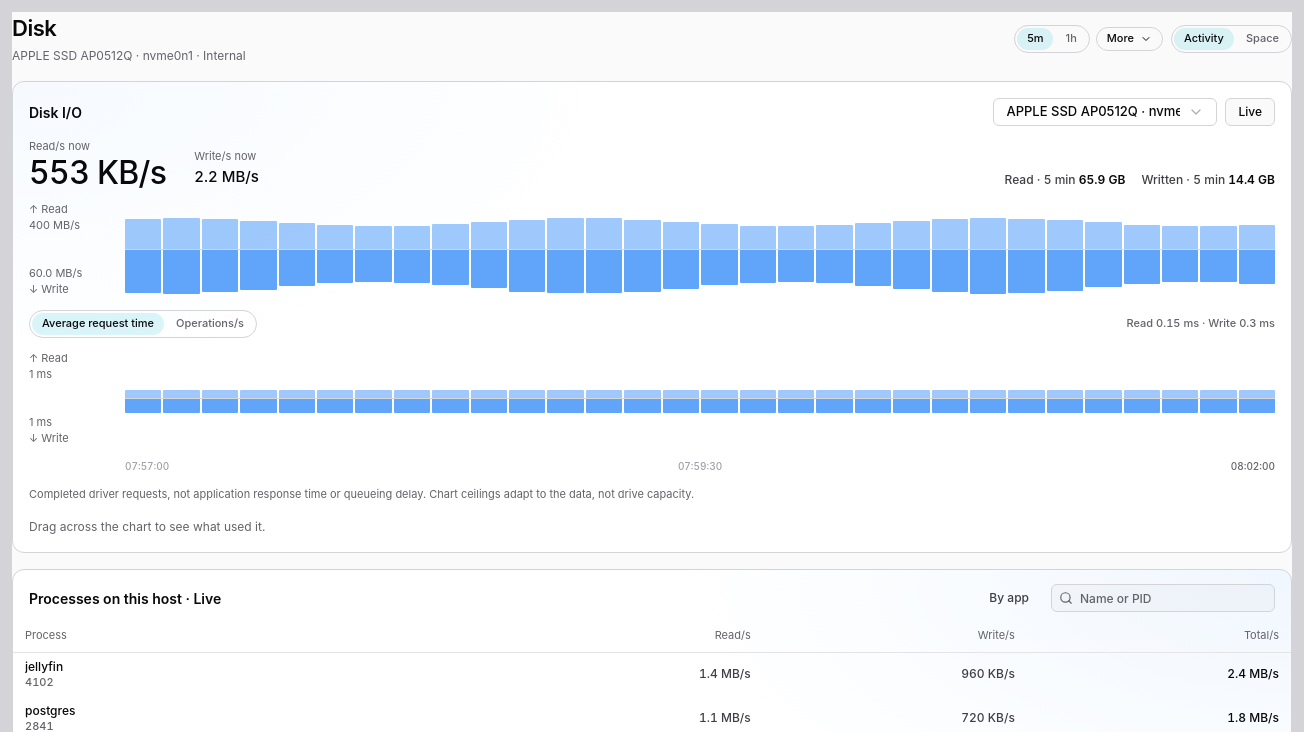
Test case: a Linux host (D-116) › lists a remote Linux host's block devices from its capabilities
Click the dropdown named "Disk device". click: (1106, 112)
box: [994,98,1218,126]
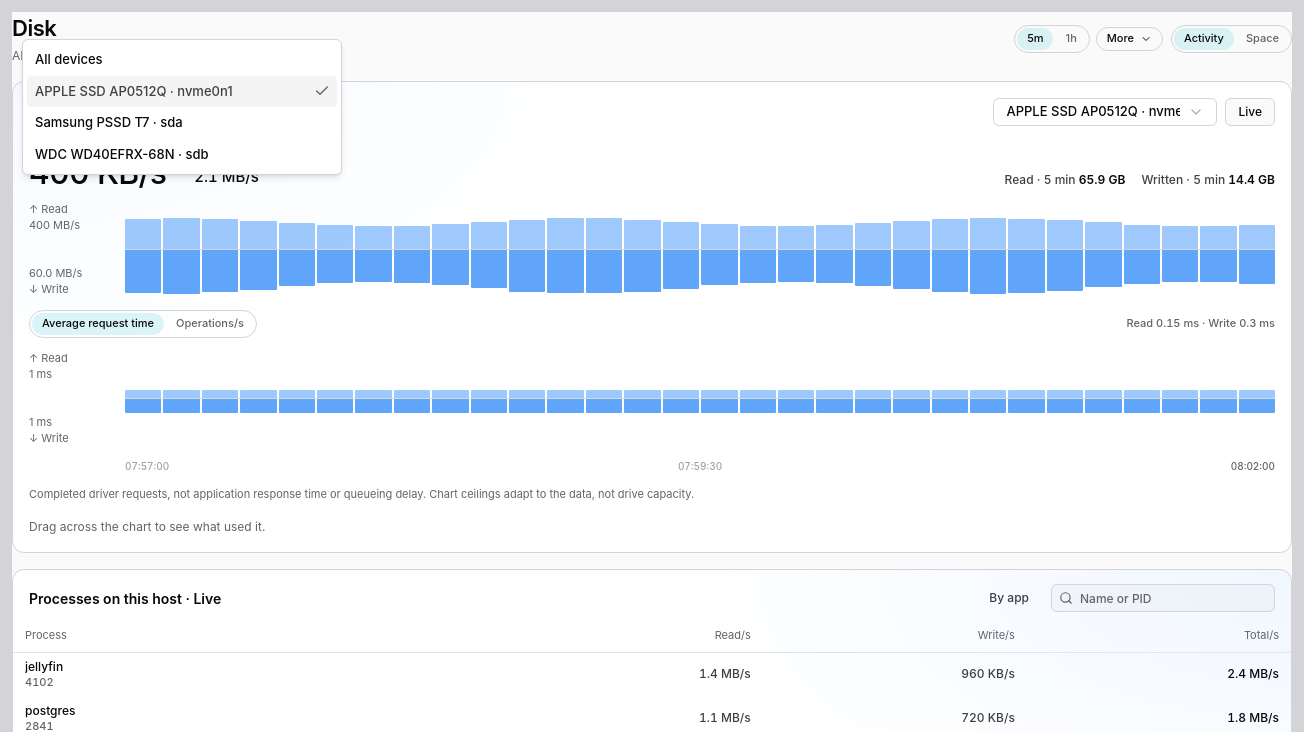
Expected: the option "Samsung PSSD T7 · sda" is shown, [35,114,183,130]
Expected: the option "WDC WD40EFRX-68N · sdb" is shown, [35,146,208,162]
